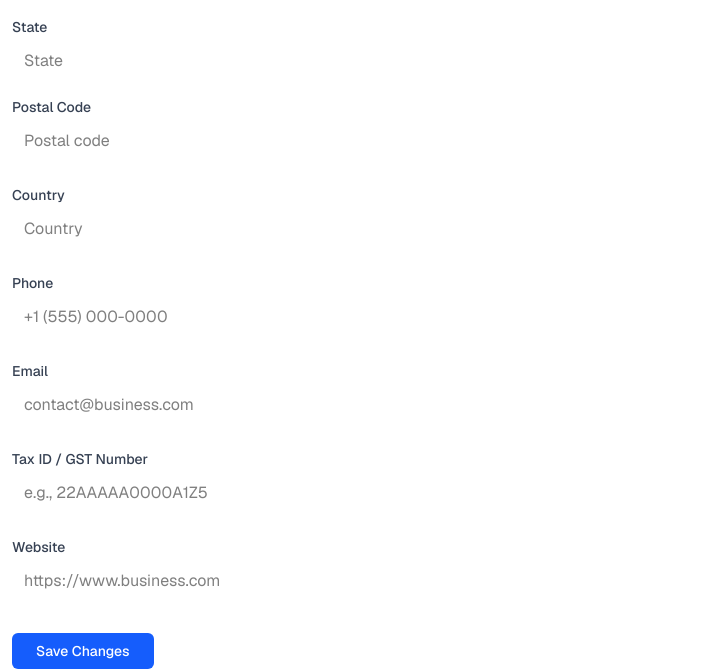
Scenario: BusinessInfoSettings › Validates required fields › shows error when business name is empty on submit
(page scrolled)
Click the button "Save Changes": [83, 651] box [12,633,154,668]
(page scrolled)
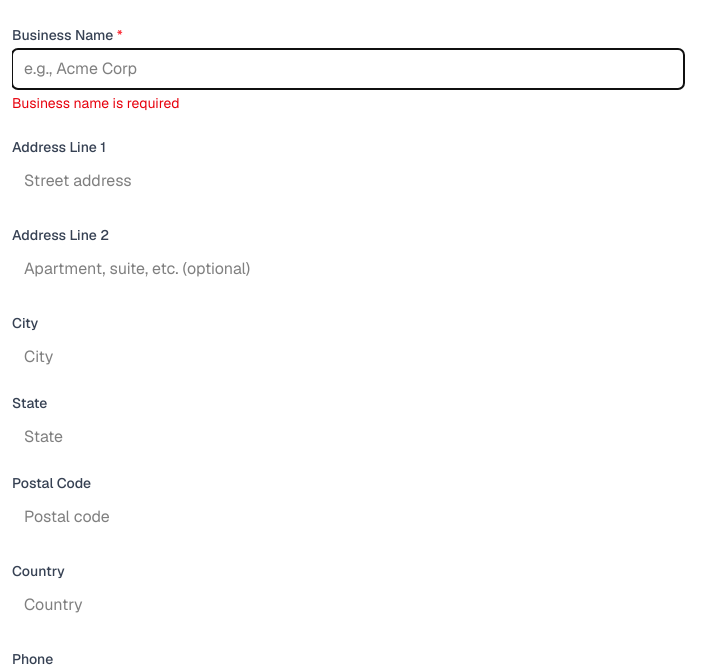
Check: the text "Business name is required" is shown, box [12,94,180,112]
